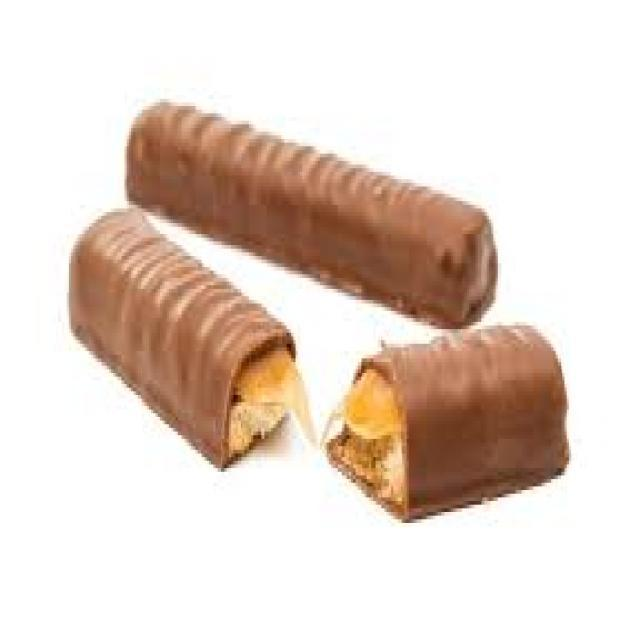Chocolate bar packaged: (44, 205, 580, 516), (118, 84, 500, 332)
